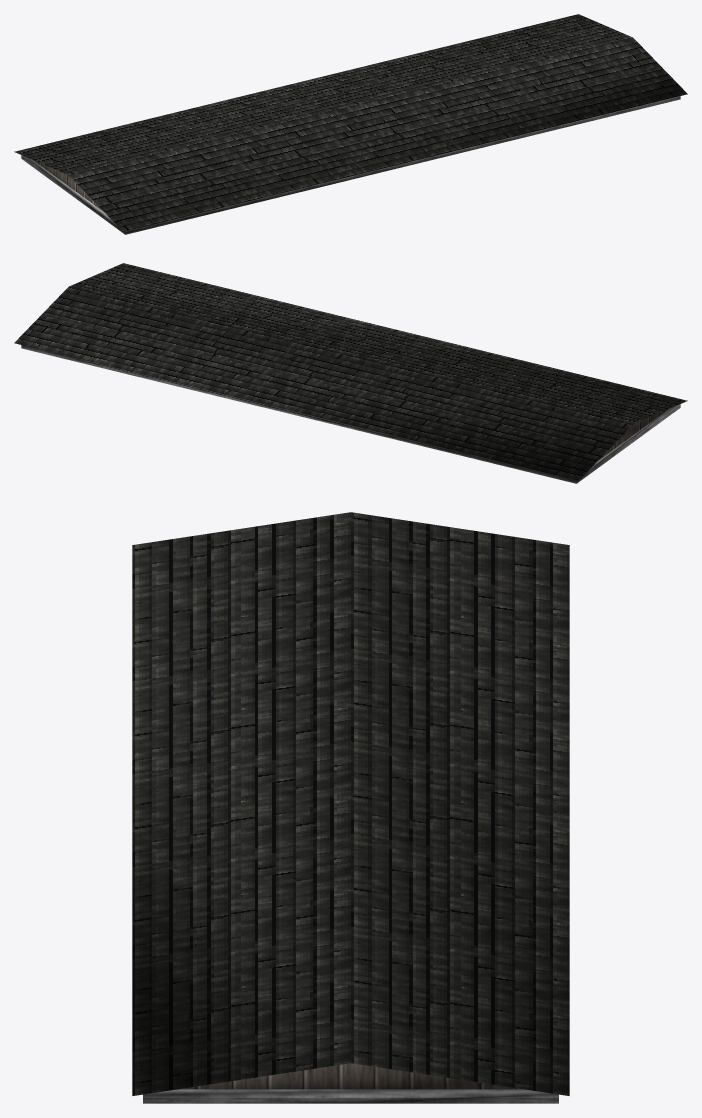
Rendered from roof6.obj.
3 views of the same model, one above another, from view 1: azimuth 30°, elevation 25°; view 2: azimuth 150°, elevation 25°; view 3: azimuth 270°, elevation 25° (orthographic). The views are drawn at different scales.
Visible parts, largest first — view 1: top6, base6; view 2: top6, base6; view 3: top6, base6.
Part boxes in pixels (bbox=[...]): top6: bbox=[14, 14, 687, 231]; base6: bbox=[21, 96, 680, 234]; top6: bbox=[14, 263, 687, 480]; base6: bbox=[21, 345, 680, 483]; top6: bbox=[132, 512, 569, 1095]; base6: bbox=[143, 1063, 558, 1103].
Bounding box in the file's own units: 602 × 23 × 202.
